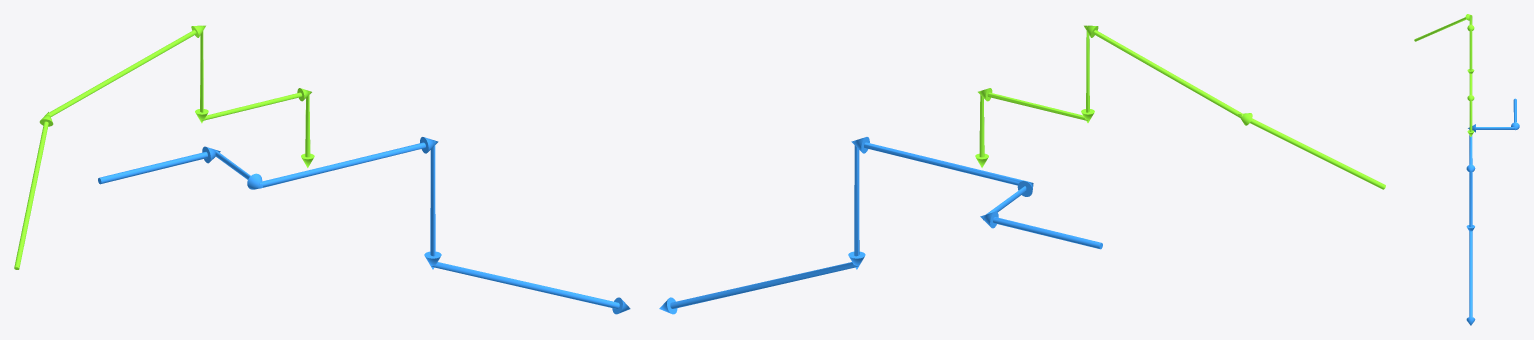
The model's file is chlorination_system_flow.glb.
3 renders of one model, left to right at view 1: azimuth 30°, elevation 25°; view 2: azimuth 150°, elevation 25°; view 3: azimuth 270°, elevation 25°, orthographic. The views are drawn at different scales.
Parts seen in each view (by area): view 1: motive_water, chlorine_gas_vacuum; view 2: motive_water, chlorine_gas_vacuum; view 3: motive_water, chlorine_gas_vacuum.
Part boxes in pixels (bbox=[...]): motive_water: bbox=[98, 137, 630, 314]; chlorine_gas_vacuum: bbox=[14, 25, 314, 269]; motive_water: bbox=[659, 137, 1102, 314]; chlorine_gas_vacuum: bbox=[975, 25, 1385, 189]; motive_water: bbox=[1466, 98, 1519, 325]; chlorine_gas_vacuum: bbox=[1414, 14, 1474, 136].
Size of the model in its own units: 3.49 by 1.94 by 0.9483.
